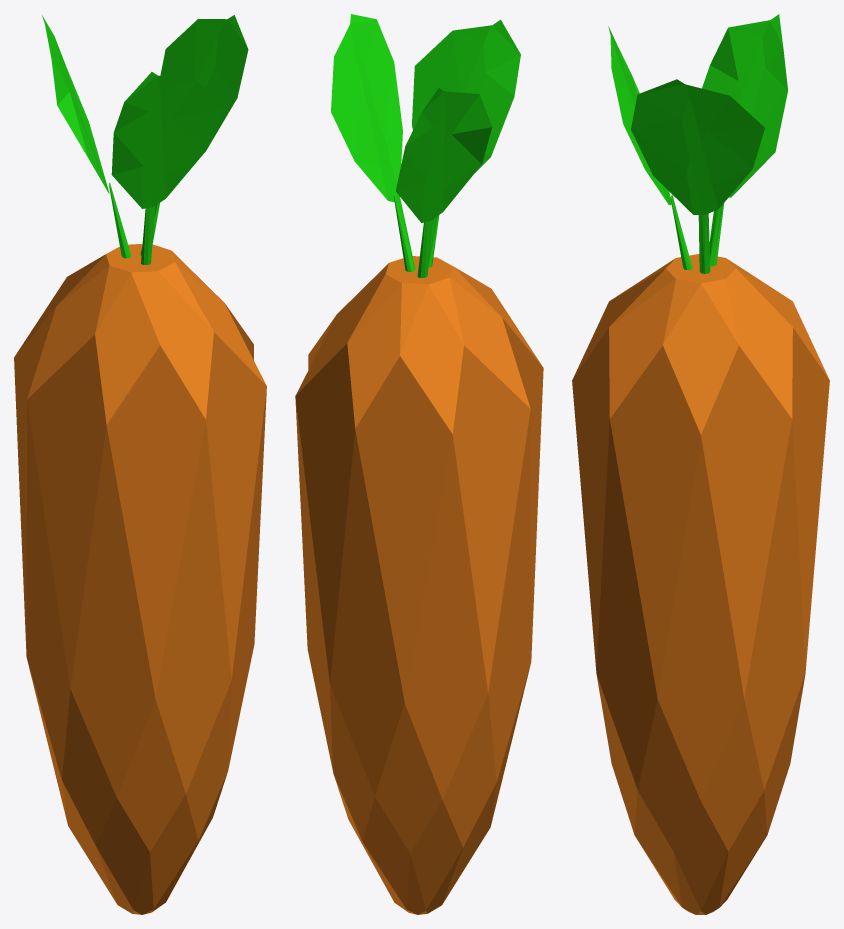
File: carrot.glb
The picture shows the model from 3 angles, left to right: view 1: azimuth 30°, elevation 25°; view 2: azimuth 150°, elevation 25°; view 3: azimuth 270°, elevation 25°; orthographic projection.
Parts seen in each view (by area): view 1: Cylinder.001; view 2: Cylinder.001; view 3: Cylinder.001.
Boxes of the visible parts, box(x1,y1,x2,y2) form: Cylinder.001: box(14, 15, 266, 914); Cylinder.001: box(295, 14, 543, 914); Cylinder.001: box(572, 14, 829, 914).
Size of the model in its own units: 0.0721 by 0.2684 by 0.0721.
